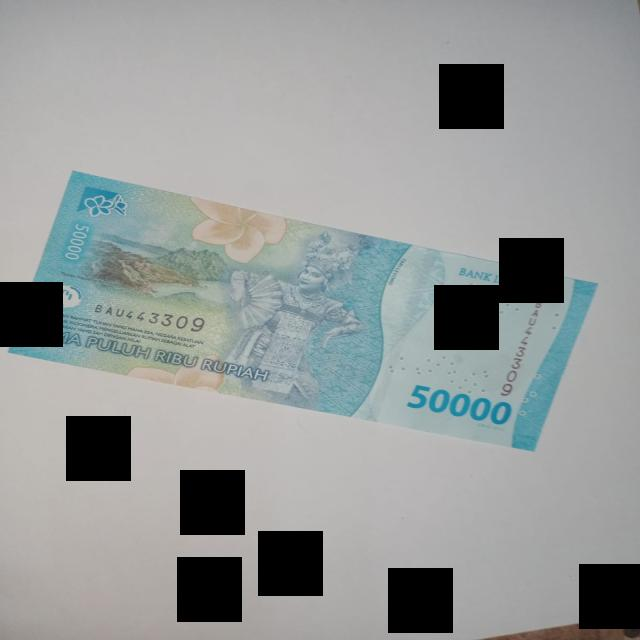lima puluh ribu rupiah: (10, 172, 595, 450)
